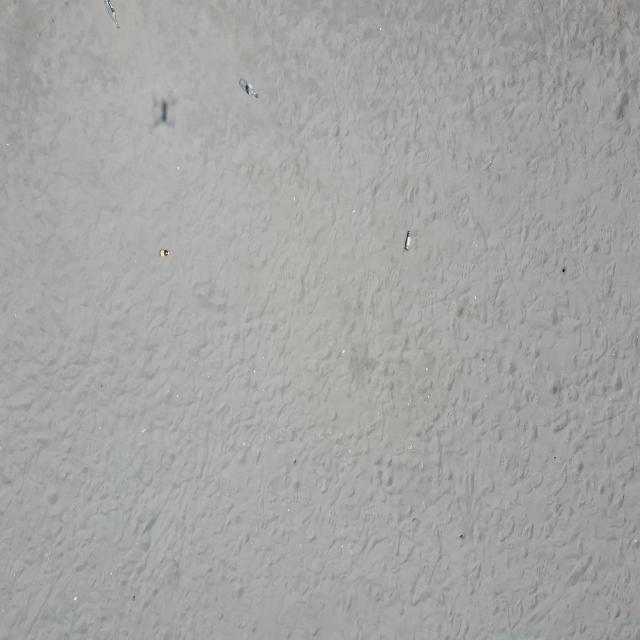glass: (104, 0, 120, 30), (240, 77, 259, 98), (404, 230, 412, 252), (160, 250, 169, 258)
